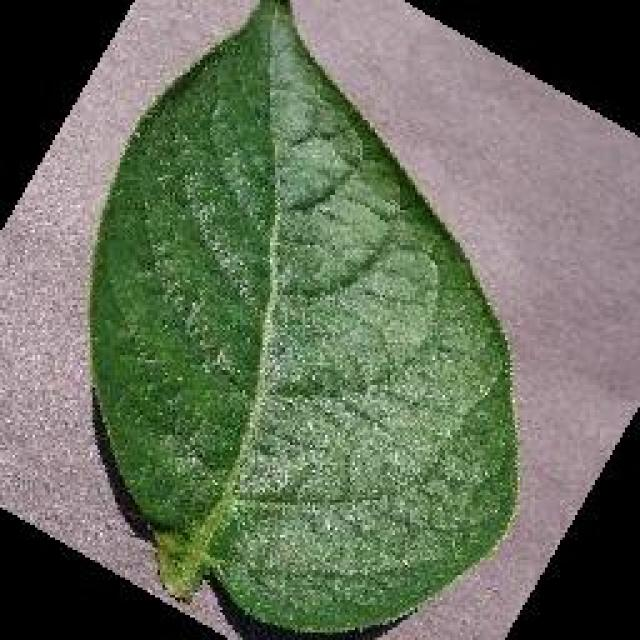Potato___healthy: (89, 0, 523, 638)
